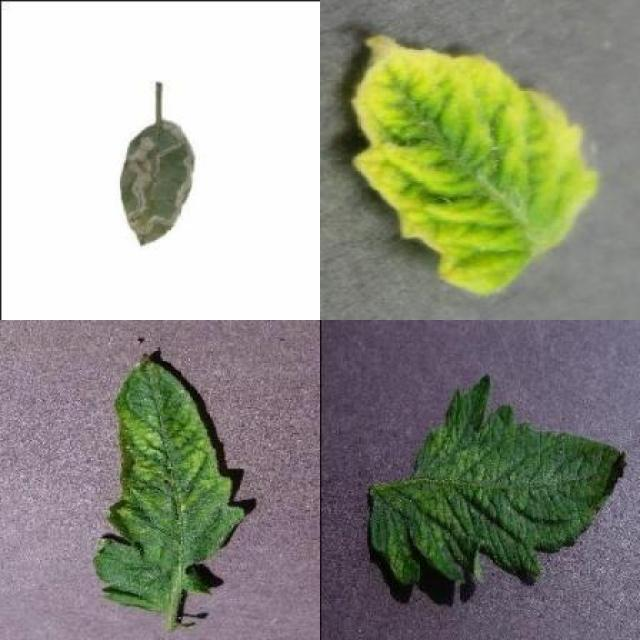Leaf Miner: (118, 119, 192, 245)
Mosaic Virus: (367, 372, 630, 588), (92, 351, 245, 613)
Yellow Leaf Curl Virus: (351, 35, 600, 294)
